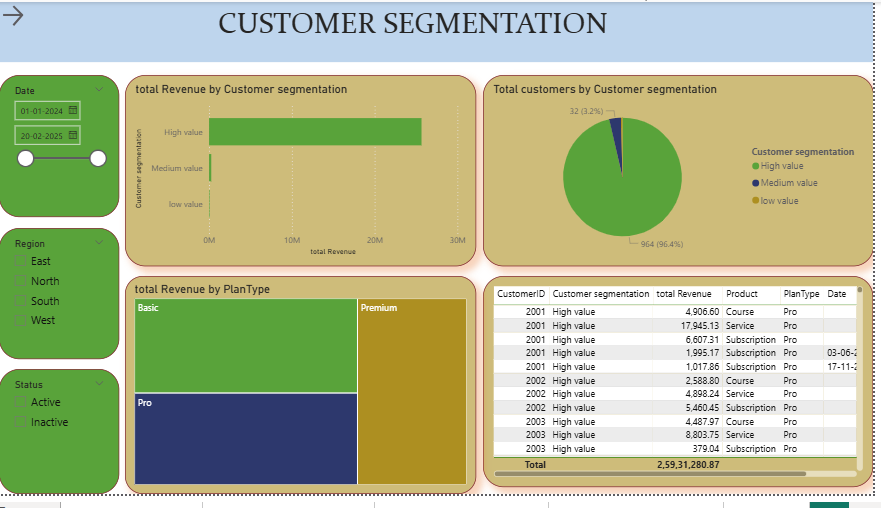

What the dashboard file says about the page in this screenshot:
{"tool":"powerbi","page":{"name":"Customer segmentation","canvas":[1280,720],"ordinal":1},"visuals":[{"type":"textbox","box":[0,0,1280.5,87.8],"z":0},{"type":"clusteredBarChart","fields":{"Category":["Customer_Master 1.Customer segmentation"],"Y":["Customer_Master 1.total Revenue"]},"box":[184.4,106.8,513.7,279.5],"z":1000},{"type":"pieChart","fields":{"Y":["Customer_Master 1.Total customers"],"Category":["Customer_Master 1.Customer segmentation"]},"box":[708.3,106.8,572.2,279.5],"z":2000},{"type":"tableEx","fields":{"Values":["Customer_Master 1.CustomerID","Customer_Master 1.Customer segmentation","Customer_Master 1.total Revenue","Transactions 1.Product","Subscription 1.PlanType","DateTable.Date"]},"box":[708.9,401.5,571.1,309.1],"z":3000},{"type":"treemap","fields":{"Group":["Subscription 1.PlanType"],"Values":["Customer_Master 1.total Revenue"]},"box":[184.8,401.5,514,319.2],"z":4000},{"type":"slicer","fields":{"Values":["DateTable.Date"]},"box":[0,106.8,175.6,207.8],"z":5000},{"type":"slicer","fields":{"Values":["Customer_Master 1.Region"]},"box":[0,330.7,175.6,191.7],"z":6000},{"type":"slicer","fields":{"Values":["Subscription 1.Status"]},"box":[0,537,176,183],"z":7000},{"type":"actionButton","box":[0,0,100,40],"z":7001}]}

Visuals, with their boxes in screenshot pixels (x1, y1, x2, y2), scaled from the page's 1280x720 canvas onto the 881x508 screenshot:
textbox: detection(0, 0, 880, 62)
clusteredBarChart - Customer_Master 1.Customer segmentation x Customer_Master 1.total Revenue: detection(127, 75, 480, 273)
pieChart - Customer_Master 1.Total customers x Customer_Master 1.Customer segmentation: detection(488, 75, 880, 273)
tableEx - Customer_Master 1.CustomerID x Customer_Master 1.Customer segmentation: detection(488, 283, 880, 501)
treemap - Subscription 1.PlanType x Customer_Master 1.total Revenue: detection(127, 283, 481, 507)
slicer - DateTable.Date: detection(0, 75, 121, 222)
slicer - Customer_Master 1.Region: detection(0, 233, 121, 369)
slicer - Subscription 1.Status: detection(0, 379, 121, 507)
actionButton: detection(0, 0, 69, 28)
